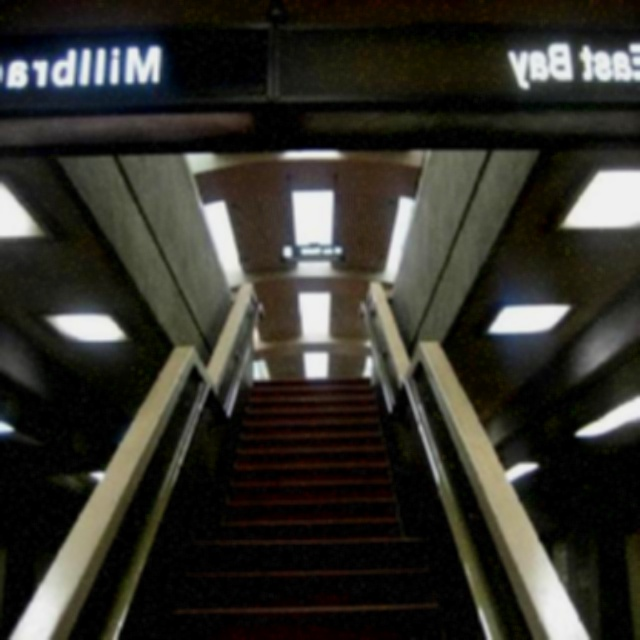stair: (169, 377, 443, 640)
